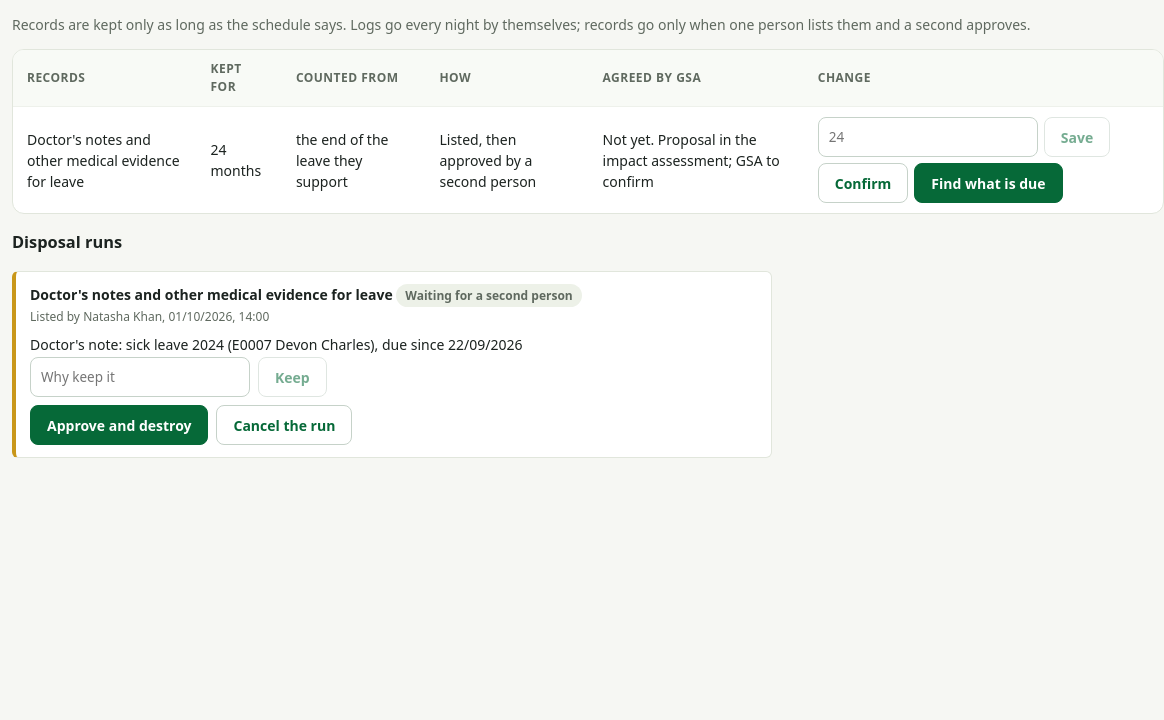
Scenario: the retention schedule › lists what is due, keeps one record back with a reason, and approves the rest
Click the button "Find what is due" at (988, 183), box [914, 163, 1063, 203]
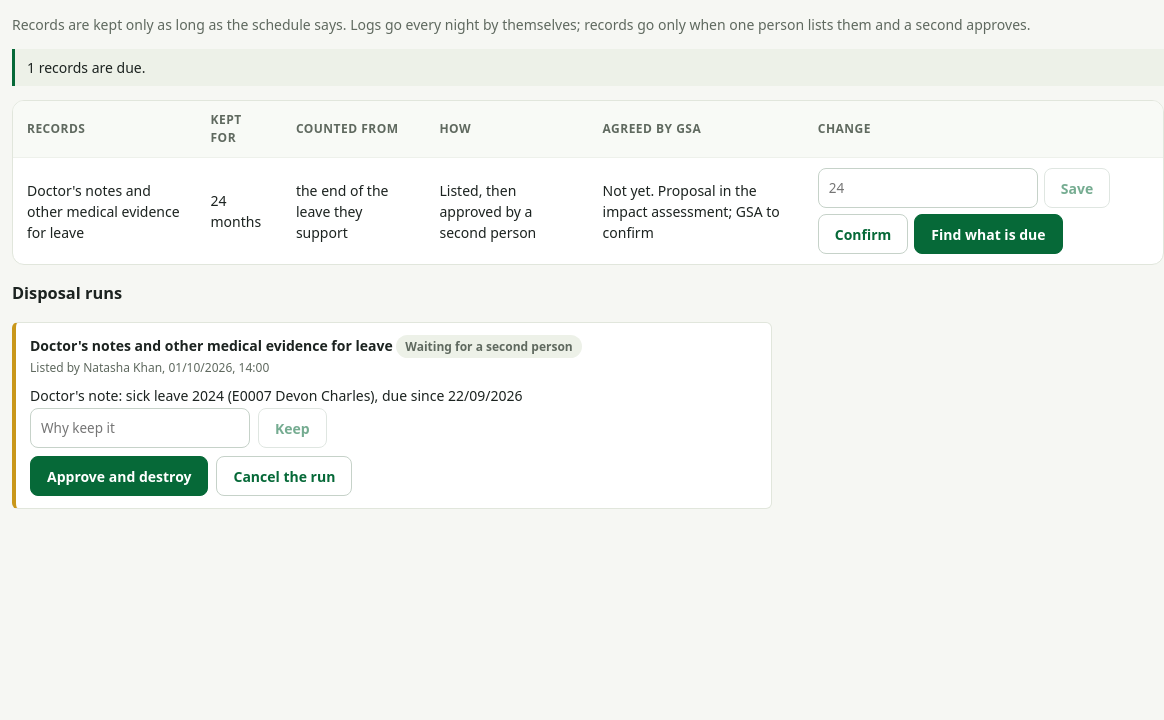
Now the message reads "1 records are due.", box [27, 58, 146, 77]
Type "Needed for a hearing" into the field with placeholder "Why keep it" at (140, 428), box [30, 408, 250, 448]
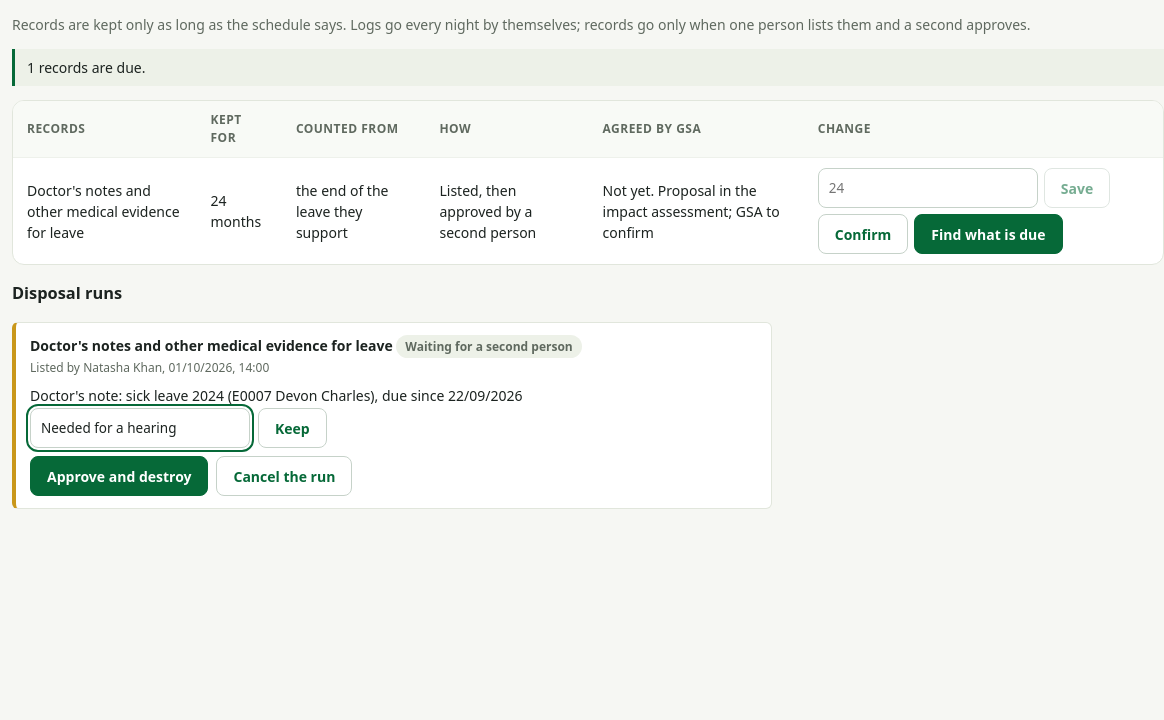
Click the button "Keep" at (292, 428), box [258, 408, 327, 448]
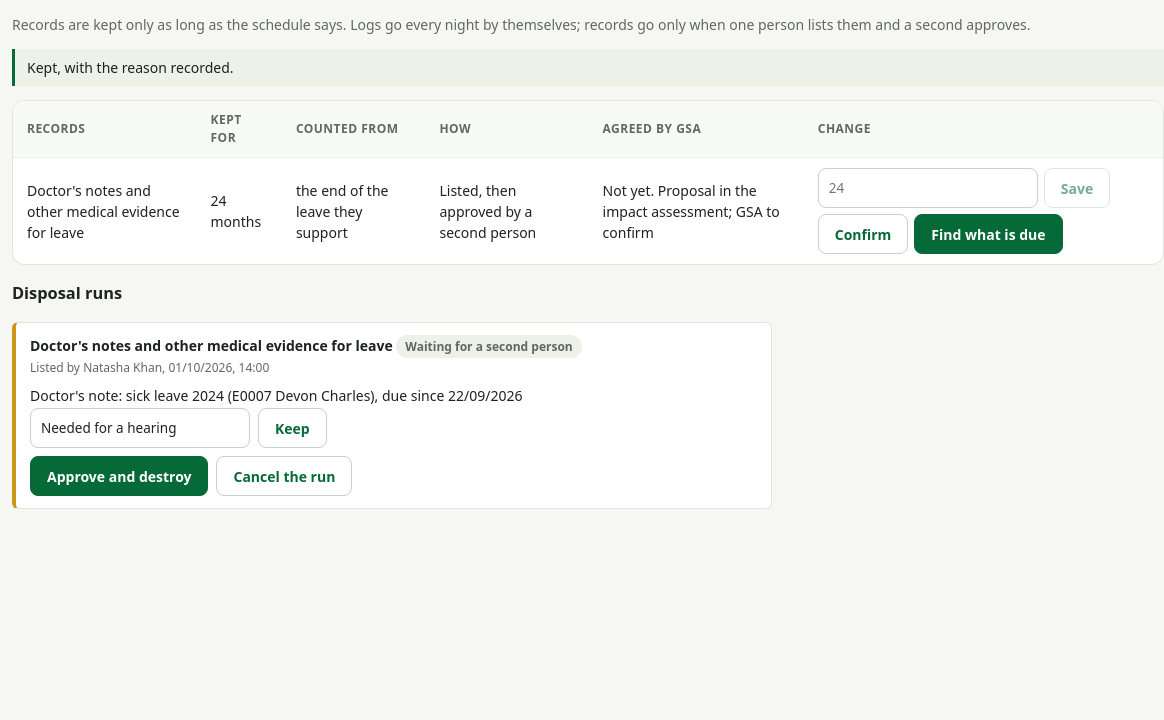
Click the button "Approve and destroy" at (119, 476), box [30, 456, 208, 496]
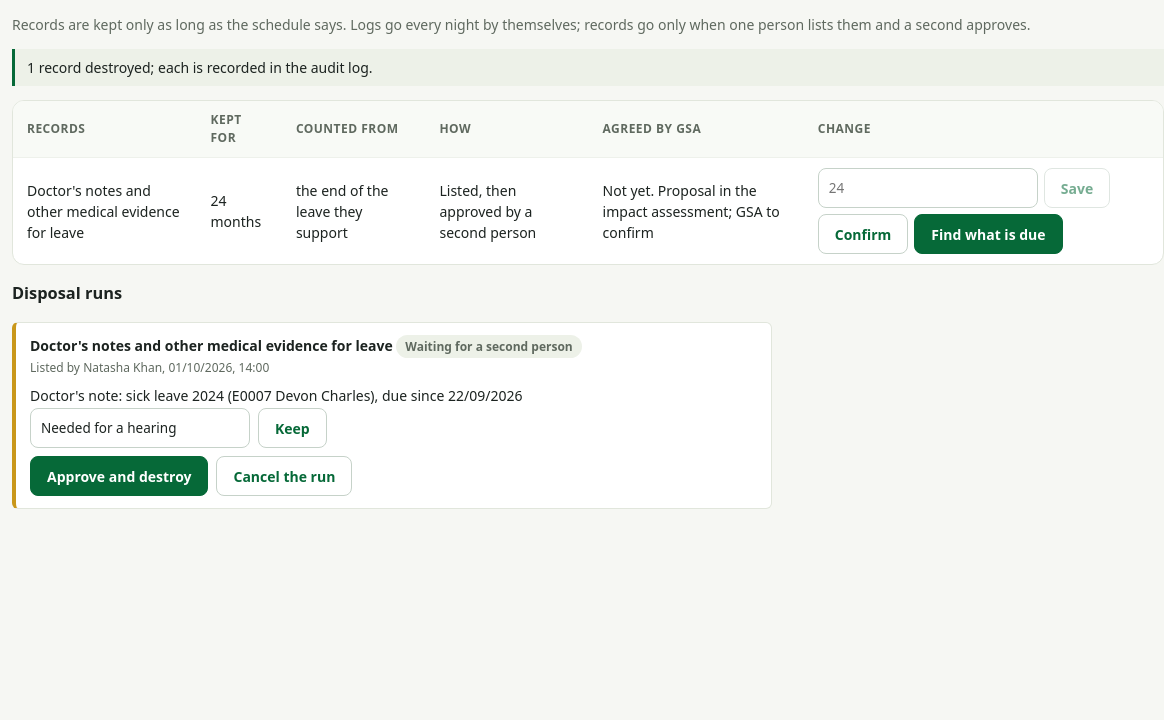
Now the message shows "1 record destroyed", box [27, 58, 373, 77]
